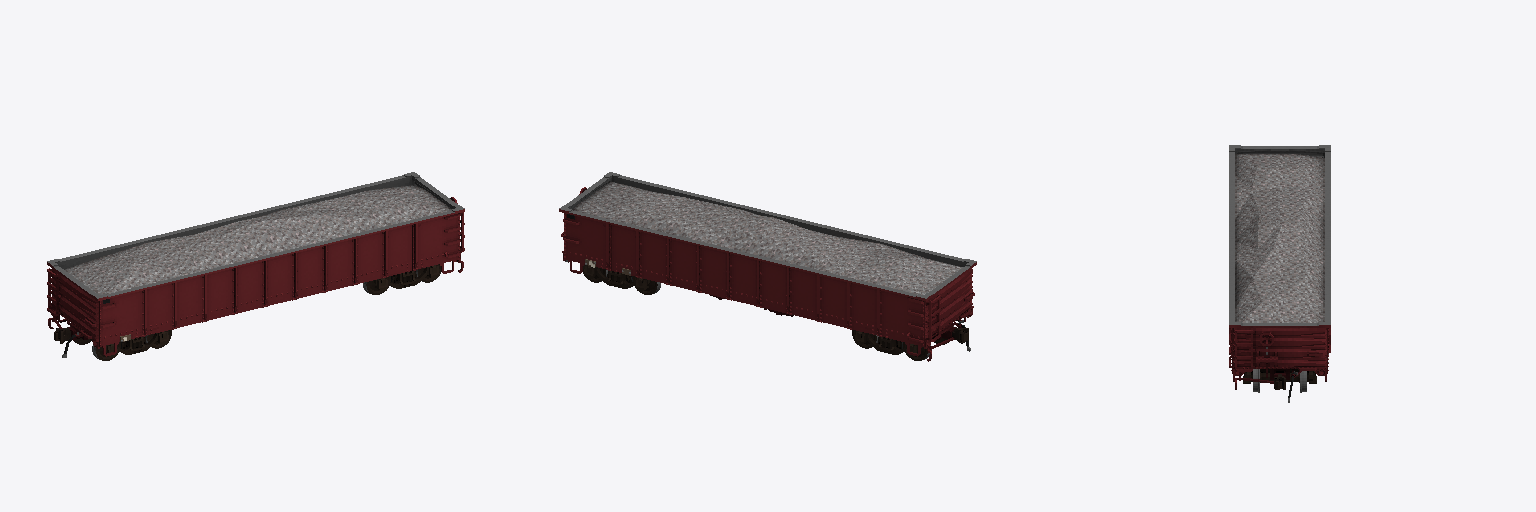
3 views of the same model, side by side, from view 1: azimuth 30°, elevation 25°; view 2: azimuth 150°, elevation 25°; view 3: azimuth 270°, elevation 25° (orthographic).
Parts seen in each view (by area): view 1: Cube_Cube.002, CARGO_FILL_95_Plane, SHELL_extra.008_Cube.062, BOGEY_REAR.002_Cube.012, BOGEY_FRONT.002_Cube.016; view 2: Cube_Cube.002, CARGO_FILL_95_Plane, SHELL_extra.008_Cube.062, BOGEY_REAR.002_Cube.012, BOGEY_FRONT.002_Cube.016; view 3: CARGO_FILL_95_Plane, Cube_Cube.002, SHELL_extra.008_Cube.062.
Boxes of the visible parts, x1,y1,x2,y2 form: Cube_Cube.002: [47, 172, 464, 348]; CARGO_FILL_95_Plane: [64, 185, 451, 294]; SHELL_extra.008_Cube.062: [47, 212, 464, 356]; BOGEY_REAR.002_Cube.012: [374, 264, 439, 291]; BOGEY_FRONT.002_Cube.016: [106, 330, 168, 357]; Cube_Cube.002: [559, 172, 976, 348]; CARGO_FILL_95_Plane: [573, 182, 962, 294]; SHELL_extra.008_Cube.062: [561, 219, 974, 361]; BOGEY_REAR.002_Cube.012: [584, 265, 649, 291]; BOGEY_FRONT.002_Cube.016: [855, 330, 917, 357]; CARGO_FILL_95_Plane: [1235, 154, 1324, 322]; Cube_Cube.002: [1229, 145, 1330, 375]; SHELL_extra.008_Cube.062: [1229, 328, 1330, 389].
Size of the model in its own units: 14.21 by 3.84 by 3.12.
3 materials, 3 textured.